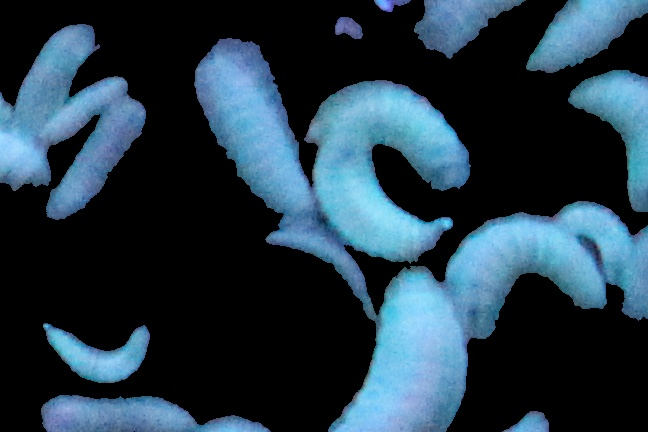larvae: (191, 19, 316, 226), (443, 219, 614, 342), (341, 268, 468, 432), (316, 115, 445, 259), (312, 80, 476, 190), (37, 96, 145, 226), (570, 69, 648, 214), (14, 13, 99, 119), (41, 315, 162, 386), (528, 1, 648, 71), (34, 392, 197, 432), (413, 1, 526, 58), (557, 201, 631, 280), (45, 76, 132, 138), (1, 129, 58, 189)
